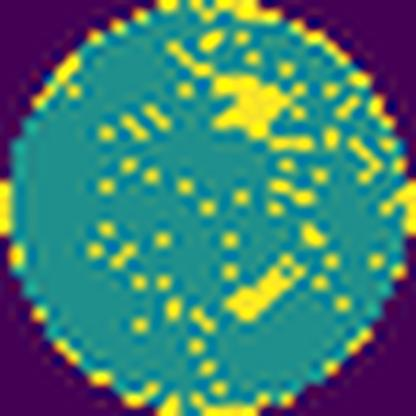Loc: (172, 41, 290, 137), (229, 252, 310, 322)
